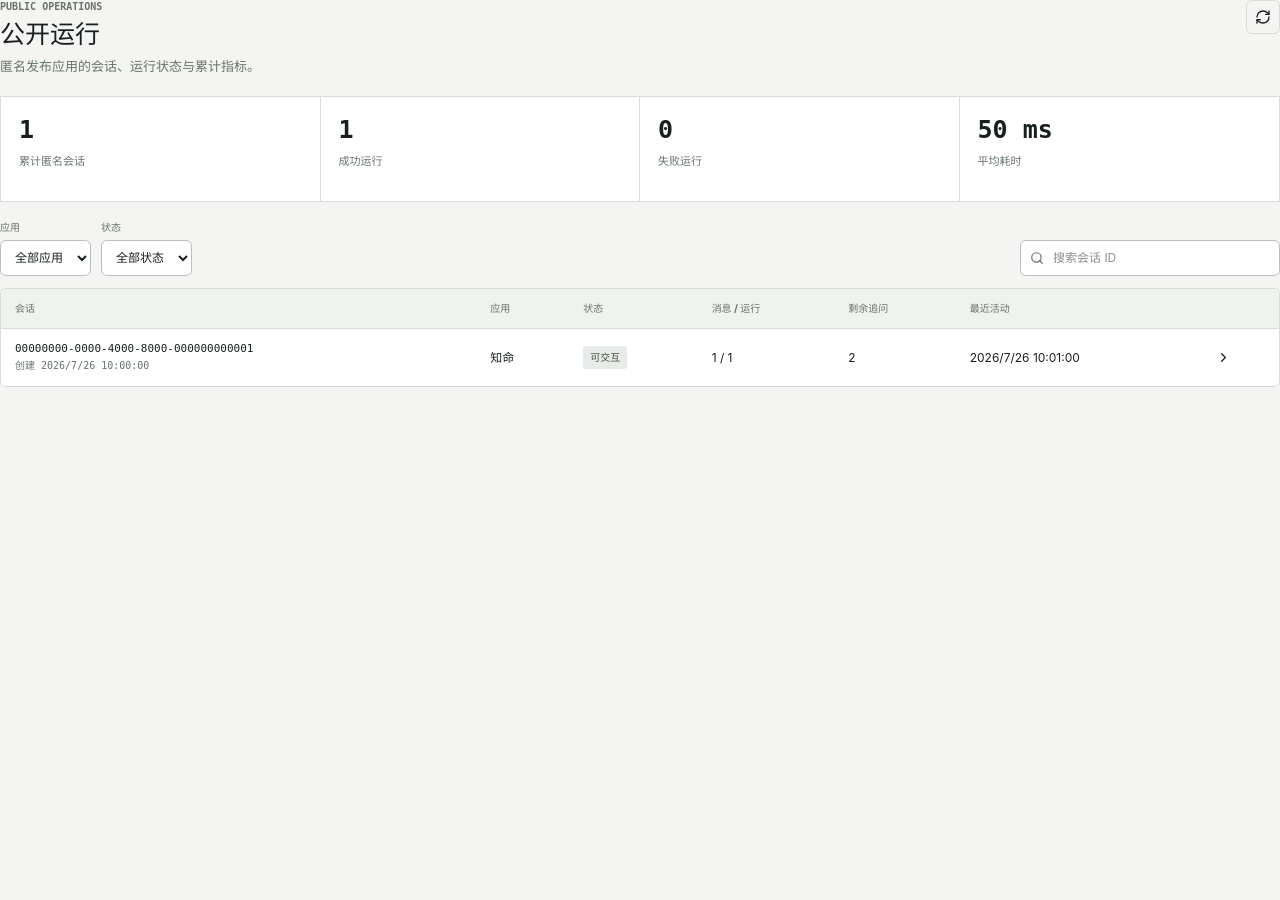
it: PublicRunsView › keeps the drawer open when deletion is rejected for a running session
The image size is (1280, 900).
Click the row that starts with "创建 2026/7/26 10:00:00".
click(134, 349)  # box [1,329,1279,386]
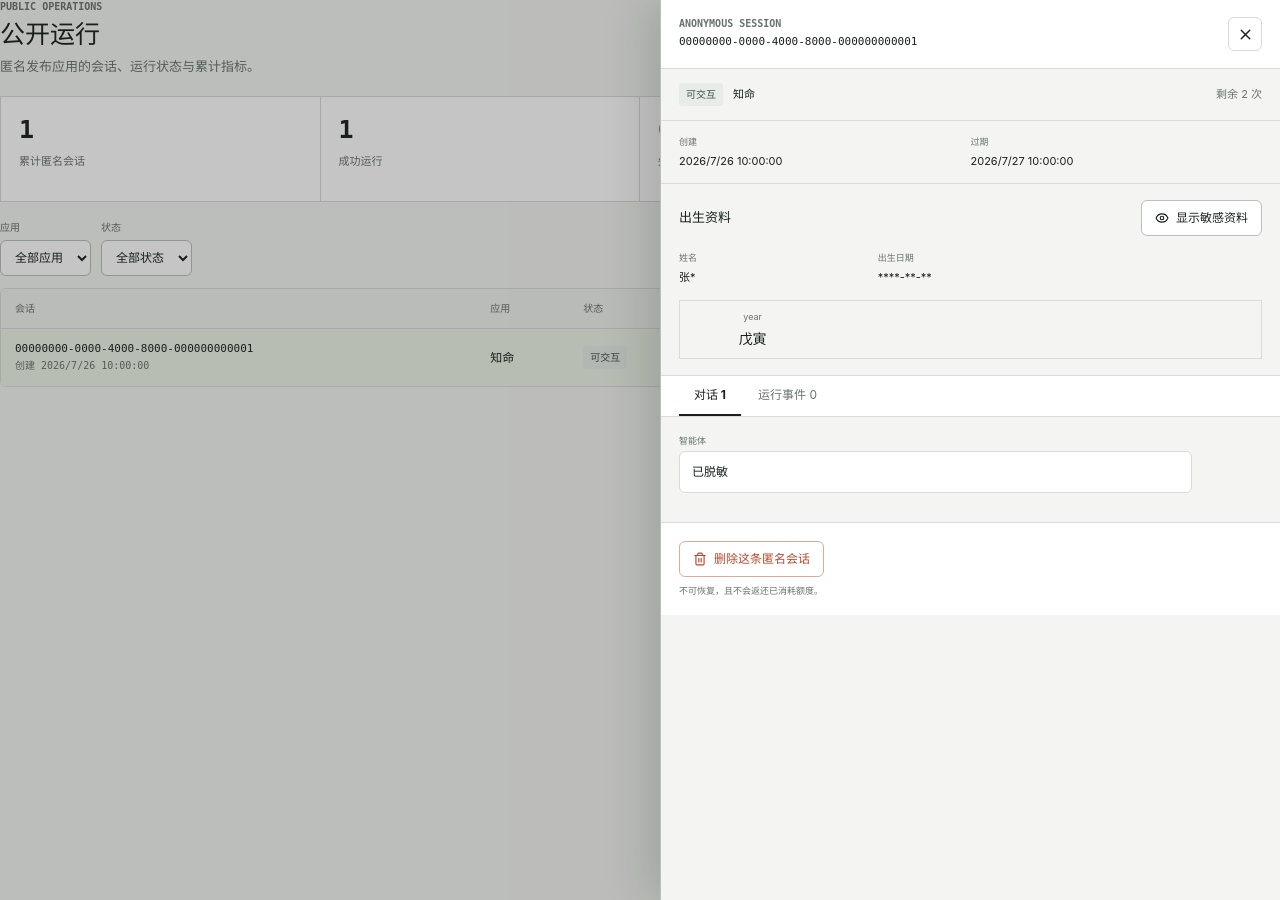
Click the button with class "button--danger".
click(752, 559)  # box [679,541,824,577]
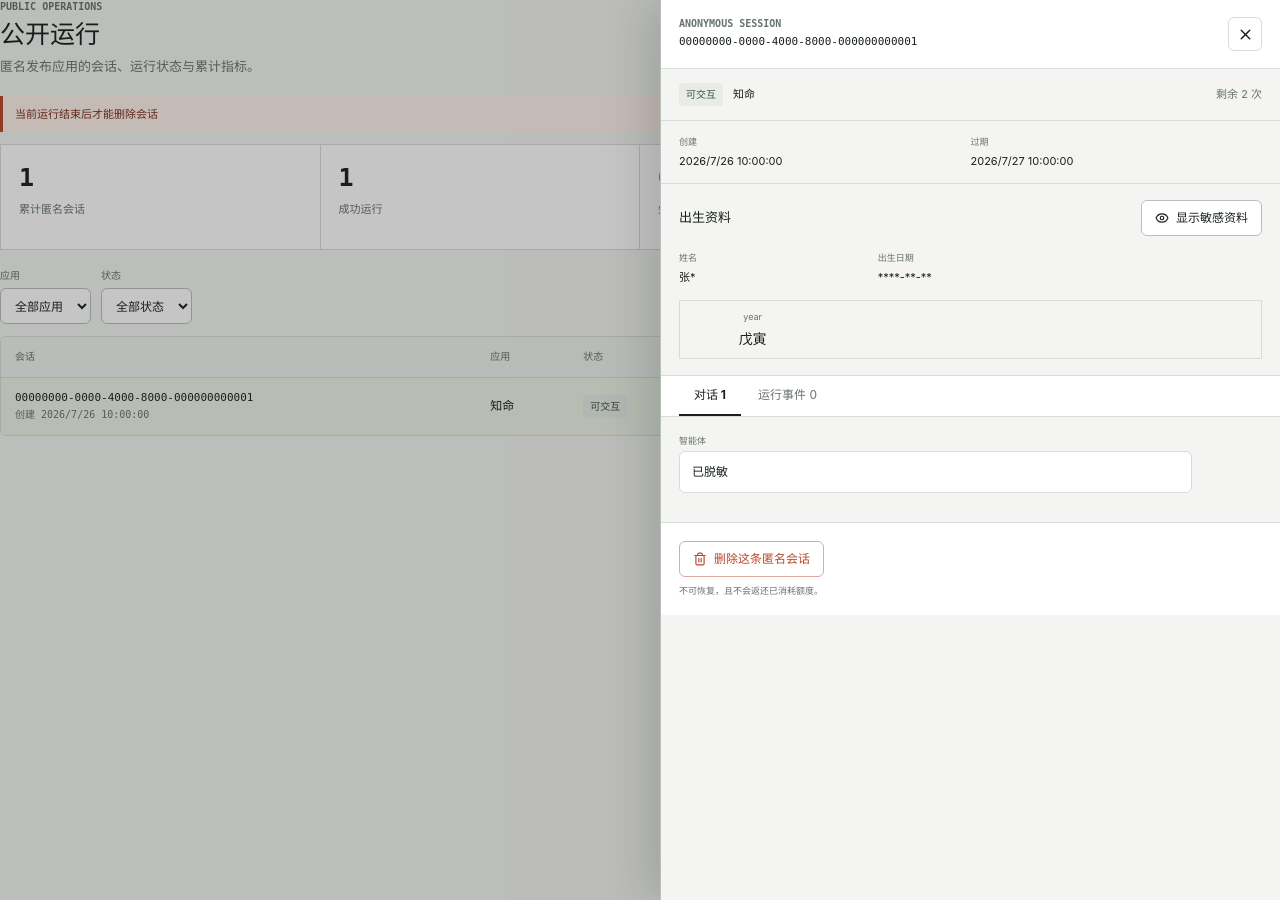
Expected: the dialog is shown, [660,0,1279,899]
Expected: the text "当前运行结束后才能删除会话" is shown, [0,96,1279,132]
